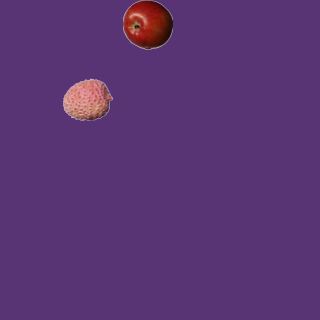Apple Braeburn: (122, 0, 172, 49)
Lychee: (62, 74, 112, 124)
